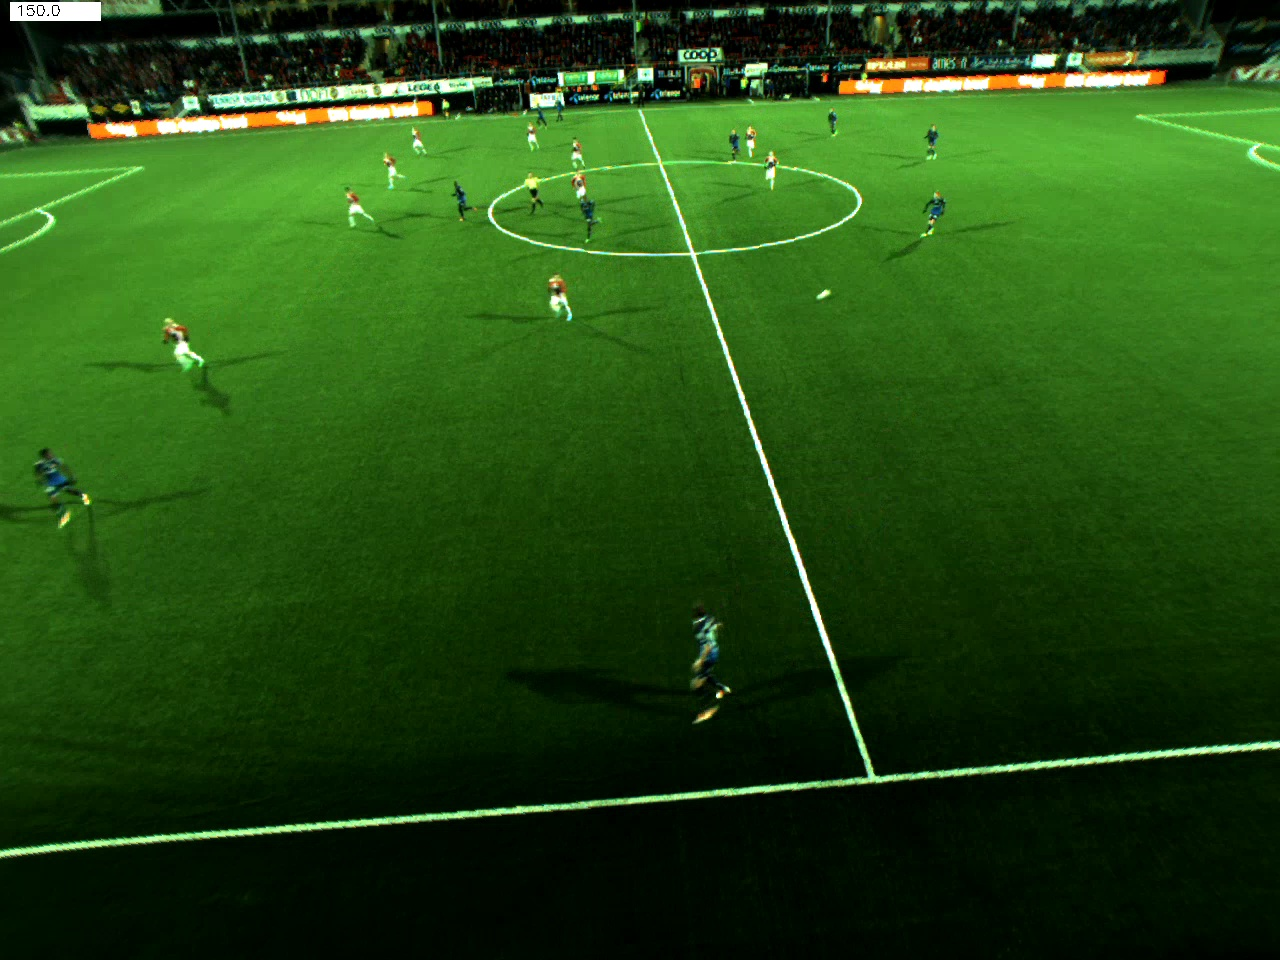blue: (680, 595, 745, 742), (27, 446, 98, 535), (916, 187, 969, 250), (446, 175, 488, 223), (577, 192, 605, 244), (821, 103, 852, 145), (917, 121, 942, 164), (724, 125, 738, 163), (533, 102, 550, 130), (552, 101, 565, 122)
red: (161, 312, 204, 376), (338, 184, 377, 230), (548, 270, 575, 324), (380, 153, 412, 184), (569, 168, 594, 202), (523, 120, 546, 153), (402, 127, 429, 155), (565, 135, 588, 167), (765, 149, 781, 193), (742, 122, 756, 165)
